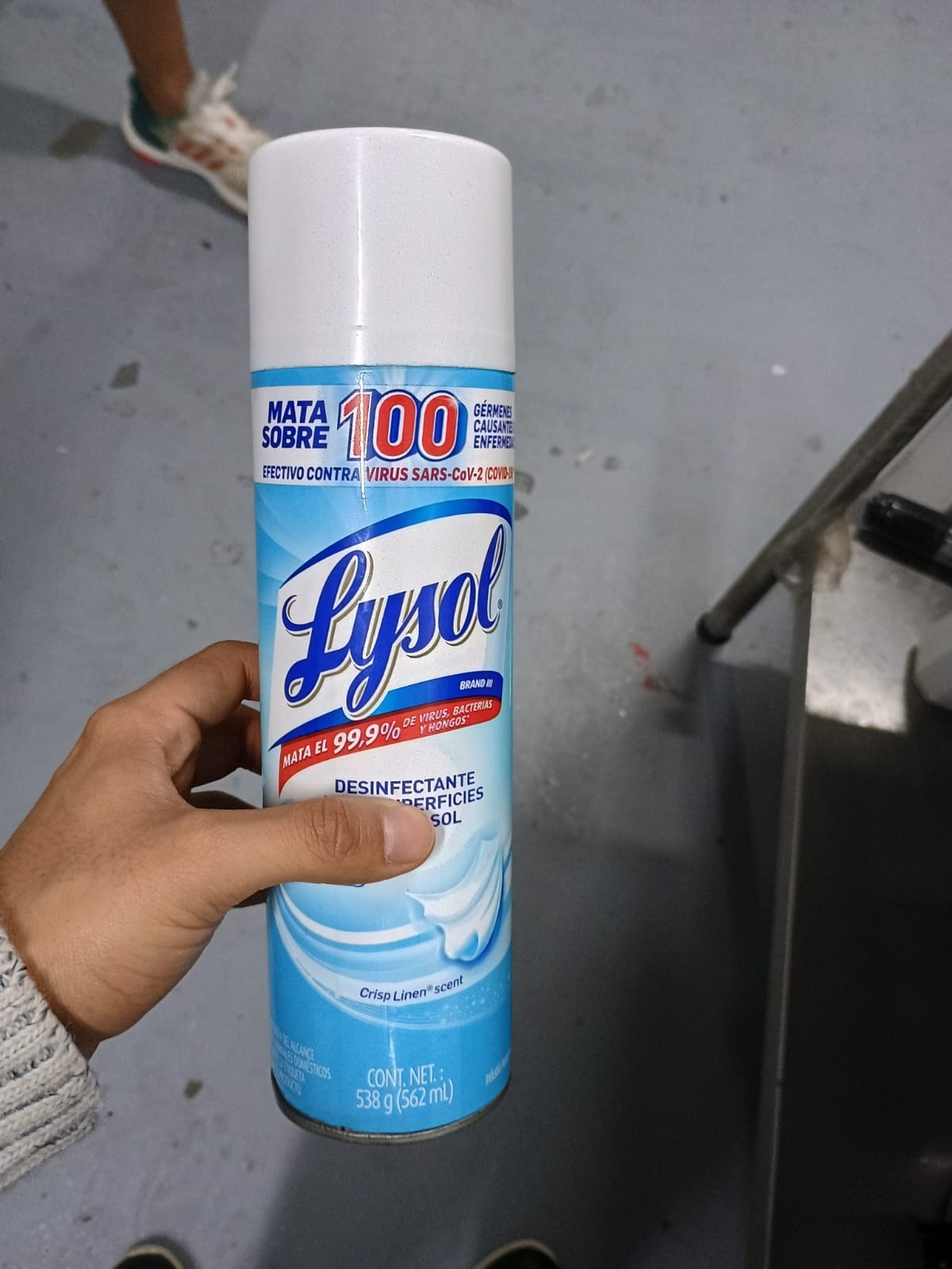Metal: (250, 368, 513, 1143)
Plastico: (250, 126, 519, 370)
